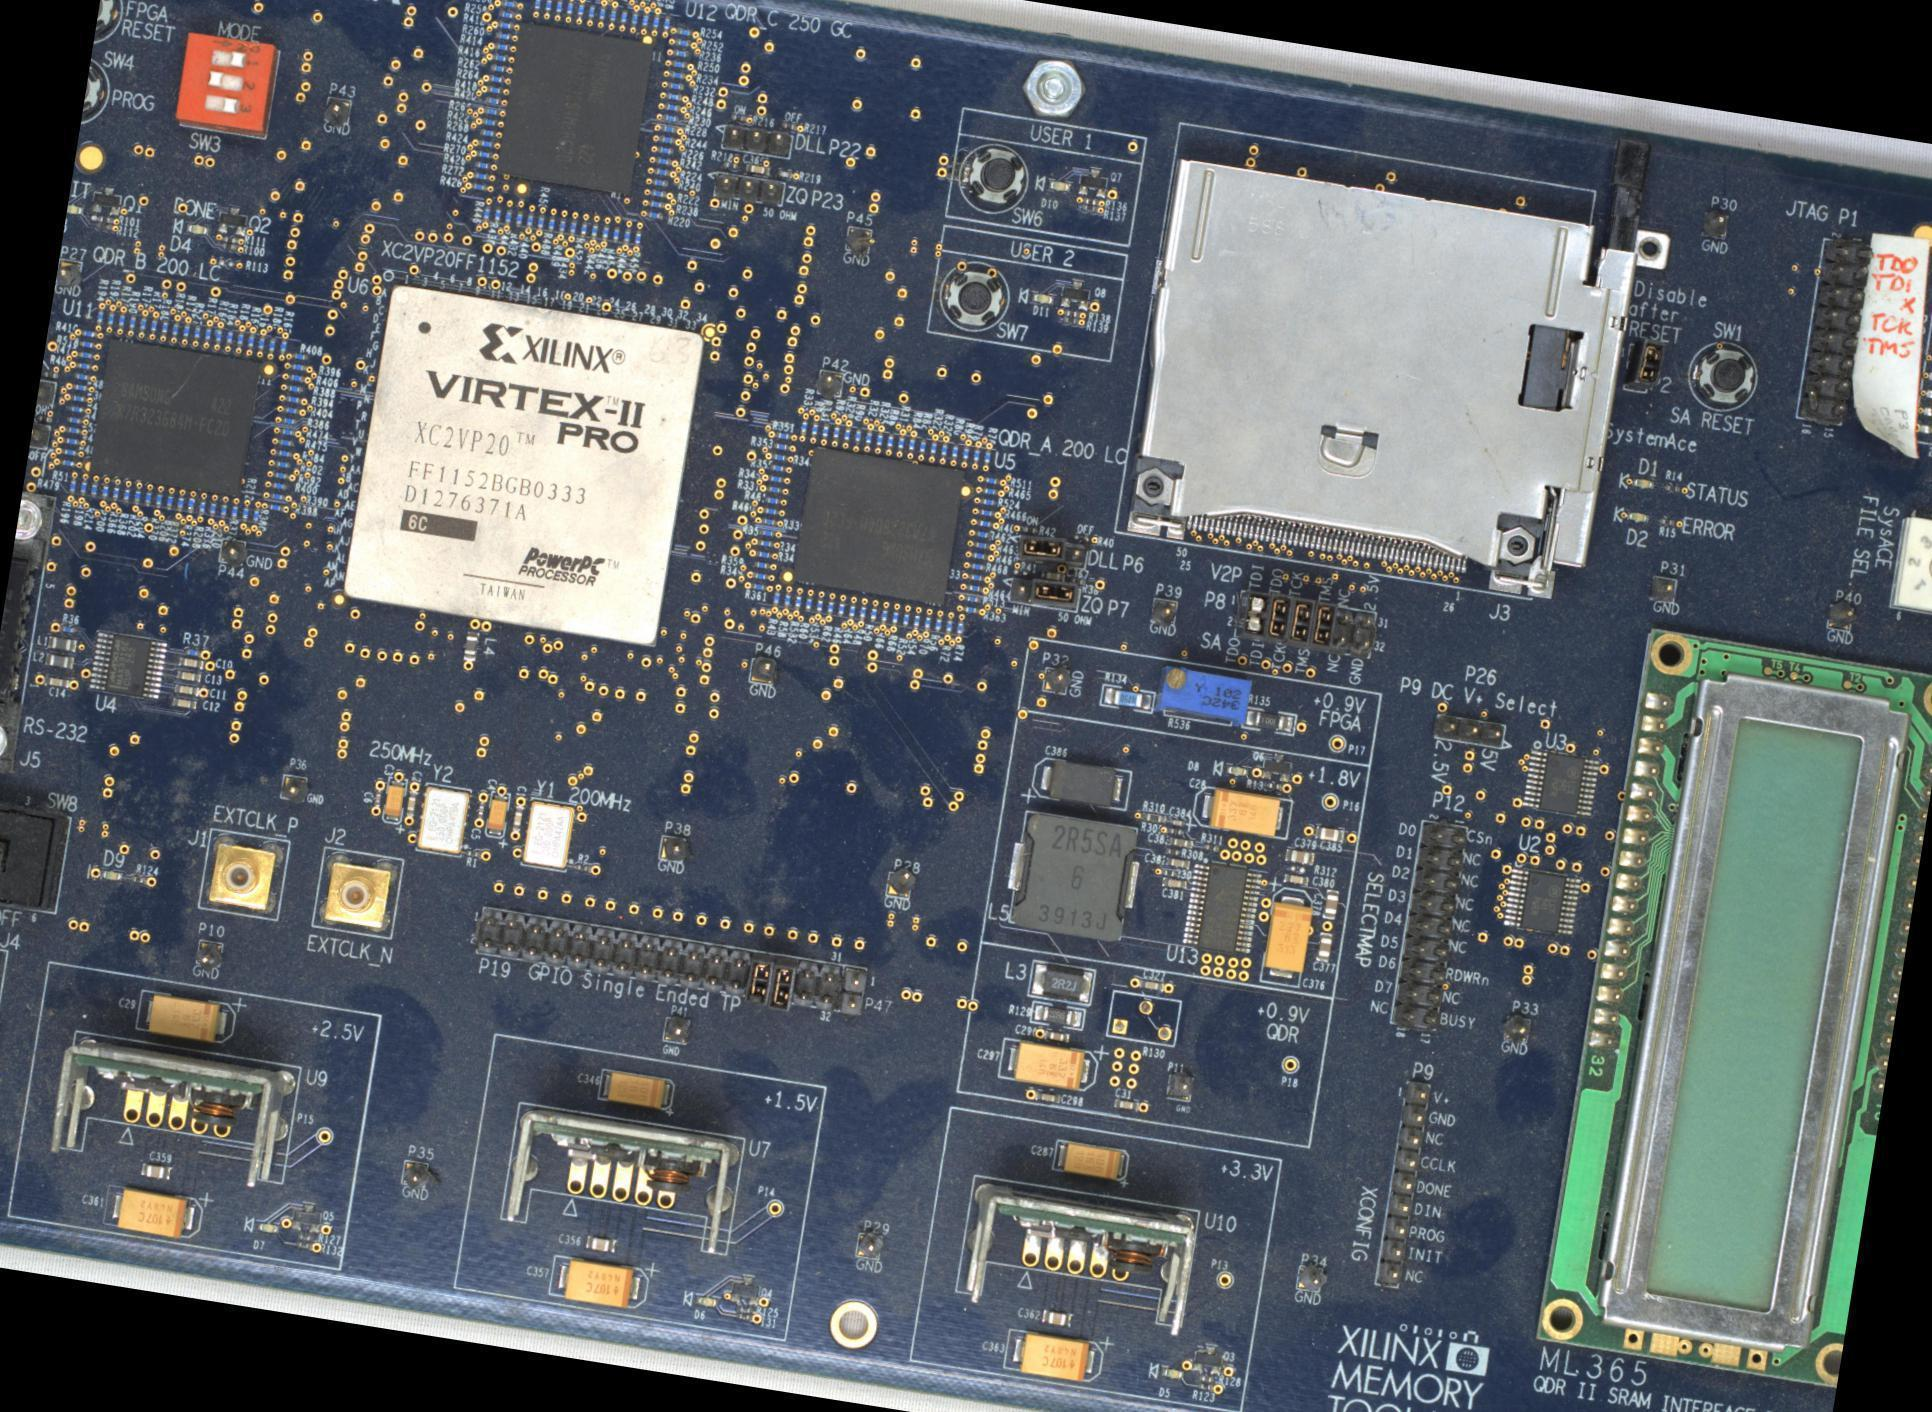Button: (932, 254, 1015, 337), (951, 137, 1034, 220), (1680, 336, 1762, 417), (80, 55, 115, 130), (92, 0, 128, 51)
Capacitor: (1313, 931, 1332, 963), (584, 1234, 616, 1253), (1040, 1308, 1072, 1328), (1313, 826, 1344, 844), (1283, 847, 1314, 865), (1321, 888, 1339, 920), (139, 1162, 170, 1179), (42, 674, 67, 688), (1138, 979, 1164, 993), (1044, 1029, 1070, 1044), (1033, 1089, 1059, 1104), (1282, 872, 1309, 885), (170, 696, 196, 710), (403, 789, 417, 816), (1112, 1098, 1138, 1112), (177, 655, 203, 669), (172, 683, 198, 696), (744, 162, 769, 175), (1160, 876, 1187, 889), (510, 804, 522, 831), (174, 670, 200, 682), (1040, 570, 1064, 582), (1170, 837, 1193, 849), (1165, 858, 1189, 869), (476, 801, 484, 818), (1167, 818, 1184, 826), (373, 790, 381, 806)
Connector: (1107, 117, 1644, 610), (474, 906, 751, 998), (1388, 818, 1468, 1032), (0, 490, 57, 776), (1793, 236, 1869, 426), (1372, 1079, 1429, 1289), (310, 843, 406, 941), (196, 827, 291, 922), (791, 957, 866, 1017), (1106, 992, 1179, 1046), (1909, 307, 1931, 455), (720, 121, 794, 161), (1431, 712, 1506, 748), (712, 170, 785, 206), (1330, 605, 1376, 659), (398, 1158, 434, 1192), (1824, 598, 1859, 631), (812, 368, 844, 401), (1041, 662, 1072, 696), (884, 866, 915, 899), (1294, 1262, 1328, 1293), (842, 224, 873, 257), (193, 938, 223, 972), (216, 537, 248, 569), (746, 655, 778, 686), (1165, 1069, 1195, 1102), (1148, 596, 1177, 627), (277, 773, 309, 803), (1501, 1011, 1531, 1043), (660, 1014, 691, 1045), (1699, 209, 1729, 240), (321, 94, 353, 124), (1646, 574, 1676, 603), (853, 1230, 884, 1259), (55, 259, 84, 290), (657, 834, 688, 862), (1008, 577, 1033, 605), (1063, 542, 1088, 568), (36, 378, 58, 406), (29, 422, 51, 450)
Electrolytic Capacitor: (133, 987, 240, 1047), (546, 1253, 651, 1311), (1001, 1326, 1105, 1385), (996, 1036, 1100, 1094), (102, 1183, 205, 1241), (1190, 784, 1293, 841), (1028, 755, 1132, 811), (1257, 885, 1314, 987), (1050, 1137, 1130, 1182), (597, 1067, 676, 1112), (483, 790, 510, 839), (380, 776, 407, 825)
IC: (340, 283, 705, 648), (86, 338, 260, 497), (498, 21, 655, 193), (792, 447, 963, 605), (1180, 857, 1262, 957), (85, 628, 167, 701), (1503, 865, 1581, 937), (1520, 748, 1599, 818)
Inductor: (1001, 809, 1144, 943), (43, 651, 75, 670), (461, 629, 479, 660), (47, 634, 77, 652)
Led: (1045, 177, 1071, 194), (1223, 763, 1248, 778), (184, 221, 209, 236), (1624, 510, 1650, 523), (100, 868, 123, 883), (1158, 1367, 1182, 1380), (694, 1294, 718, 1307), (1629, 477, 1653, 490), (1030, 292, 1054, 304), (257, 1222, 278, 1234), (67, 204, 84, 215)
Pads: (216, 257, 235, 269), (1288, 864, 1305, 876), (1071, 532, 1089, 542), (1012, 568, 1028, 577)
Resistor: (1025, 958, 1095, 1006), (1097, 683, 1156, 714), (1028, 1000, 1087, 1031), (1243, 705, 1297, 736), (1140, 811, 1166, 824), (1661, 482, 1679, 493), (618, 8, 628, 27), (639, 11, 649, 30), (234, 330, 244, 348), (245, 331, 255, 350), (813, 596, 823, 614), (932, 615, 942, 633), (867, 605, 877, 623), (660, 14, 670, 32), (666, 80, 684, 90), (653, 167, 670, 177), (546, 214, 556, 232), (567, 218, 577, 236), (578, 219, 588, 237), (632, 228, 642, 246), (480, 204, 490, 222), (621, 227, 631, 245), (1060, 315, 1078, 325), (564, 0, 574, 16), (663, 102, 680, 112), (661, 113, 678, 123), (645, 209, 662, 219), (798, 418, 807, 436), (831, 423, 840, 441), (841, 425, 850, 443), (820, 422, 830, 440), (192, 323, 201, 340), (169, 320, 178, 337), (148, 317, 157, 334), (224, 329, 233, 346), (256, 333, 265, 351), (278, 337, 287, 355), (290, 352, 308, 361), (773, 431, 791, 440), (288, 362, 306, 371), (770, 452, 787, 461), (764, 484, 781, 493), (275, 438, 293, 447), (275, 449, 292, 457), (752, 559, 770, 569), (748, 582, 766, 591), (230, 503, 238, 520), (240, 504, 249, 522), (164, 492, 173, 510), (184, 496, 194, 514), (207, 500, 216, 517), (250, 507, 259, 525), (890, 608, 898, 625), (110, 485, 118, 502), (121, 486, 130, 504), (131, 488, 140, 505), (793, 593, 802, 610), (803, 594, 812, 612), (944, 617, 952, 634), (846, 602, 855, 620), (597, 5, 606, 22), (628, 10, 638, 28), (650, 13, 659, 31), (296, 1233, 313, 1242), (779, 121, 796, 130), (659, 124, 676, 133), (482, 107, 499, 115), (647, 199, 664, 208), (492, 205, 501, 223), (535, 212, 544, 229), (514, 209, 523, 227), (600, 223, 609, 241), (610, 224, 619, 242), (885, 432, 894, 448), (863, 428, 871, 444), (809, 420, 818, 437), (928, 439, 937, 456), (105, 309, 114, 325), (202, 325, 211, 342), (116, 312, 124, 329), (267, 337, 276, 354), (80, 329, 96, 337), (772, 442, 789, 451), (768, 463, 785, 472), (978, 497, 994, 506), (75, 362, 91, 370), (284, 395, 300, 403), (42, 369, 58, 378), (71, 383, 87, 391), (764, 496, 780, 505), (69, 393, 86, 402), (278, 427, 294, 436), (762, 507, 779, 516), (68, 404, 84, 412), (65, 416, 81, 424), (968, 562, 984, 571), (756, 539, 772, 547), (63, 436, 79, 445), (60, 447, 77, 456), (270, 481, 286, 490), (59, 458, 75, 467), (197, 498, 205, 515), (143, 489, 151, 506), (825, 598, 834, 615), (836, 600, 844, 617), (878, 607, 886, 624), (60, 625, 77, 634), (183, 648, 200, 657), (1167, 826, 1184, 835), (1161, 867, 1177, 876), (573, 863, 590, 872), (129, 874, 145, 883), (586, 3, 595, 20), (735, 1304, 752, 1313), (674, 27, 690, 36), (498, 11, 514, 19), (669, 70, 685, 79), (491, 53, 507, 61), (665, 91, 681, 100), (729, 113, 746, 121), (486, 85, 502, 94), (1081, 197, 1098, 205), (657, 135, 673, 144), (480, 117, 497, 126), (657, 146, 673, 155), (478, 128, 495, 136), (651, 177, 668, 186), (474, 160, 490, 169), (524, 211, 532, 228), (557, 217, 566, 234), (503, 208, 512, 225), (1062, 308, 1079, 317), (96, 215, 112, 223), (219, 242, 236, 250), (1657, 517, 1674, 526), (541, 0, 552, 14), (906, 436, 915, 451), (874, 431, 882, 448), (896, 435, 904, 450), (972, 446, 980, 463), (983, 448, 991, 464), (180, 322, 189, 338), (982, 476, 998, 485), (76, 350, 92, 359), (73, 371, 89, 380), (1021, 524, 1036, 533), (974, 530, 989, 538), (972, 540, 987, 549), (971, 551, 986, 559), (965, 583, 982, 591), (268, 492, 284, 501), (78, 479, 86, 496), (99, 482, 107, 499), (68, 478, 76, 494), (154, 491, 162, 508), (175, 494, 183, 511), (782, 592, 790, 607), (900, 610, 909, 626), (955, 620, 963, 637), (1165, 847, 1180, 856), (575, 1, 584, 17), (553, 0, 563, 15), (1198, 1375, 1214, 1384), (734, 1313, 751, 1321), (498, 0, 516, 8), (673, 37, 689, 46), (670, 58, 686, 68), (494, 31, 511, 39), (776, 169, 791, 179), (649, 188, 665, 197), (471, 181, 486, 190), (589, 221, 597, 239), (95, 222, 112, 230), (918, 437, 926, 453), (853, 427, 861, 444), (939, 441, 947, 457), (961, 444, 969, 461), (96, 308, 104, 324), (127, 313, 135, 330), (213, 327, 221, 344), (951, 444, 959, 461), (78, 340, 95, 348), (287, 373, 303, 381), (981, 486, 997, 494), (766, 474, 783, 482), (977, 508, 993, 516), (282, 406, 299, 414), (281, 417, 297, 425), (759, 517, 776, 525), (1068, 577, 1084, 585), (758, 529, 774, 537), (36, 414, 52, 422), (63, 426, 80, 434), (273, 460, 290, 468), (272, 471, 288, 479), (755, 550, 771, 558), (963, 595, 980, 603), (750, 571, 767, 579), (962, 606, 978, 614), (265, 502, 282, 510), (88, 480, 96, 497), (922, 613, 930, 630), (219, 502, 227, 519), (772, 590, 780, 606), (912, 612, 920, 629), (858, 603, 866, 620), (1266, 782, 1282, 790), (464, 849, 480, 857), (610, 8, 618, 24), (294, 1241, 311, 1249), (672, 48, 689, 56), (489, 64, 506, 72), (488, 75, 504, 83), (483, 96, 500, 104), (1080, 204, 1097, 212), (654, 156, 671, 164), (476, 139, 492, 147), (471, 172, 488, 180), (138, 316, 146, 332), (160, 319, 168, 335), (976, 519, 992, 527), (967, 573, 982, 581), (1197, 1383, 1212, 1391), (497, 21, 512, 29), (493, 42, 509, 50), (721, 160, 737, 168), (475, 150, 491, 158), (220, 235, 236, 243), (531, 0, 541, 11), (285, 385, 302, 392)
Switch: (171, 29, 281, 138), (0, 798, 75, 918)
Transistor: (1074, 164, 1109, 199), (1058, 276, 1090, 310), (289, 1200, 322, 1233), (215, 203, 248, 236), (1191, 1341, 1223, 1374), (88, 185, 122, 216), (1260, 751, 1292, 782), (729, 1274, 760, 1306)
